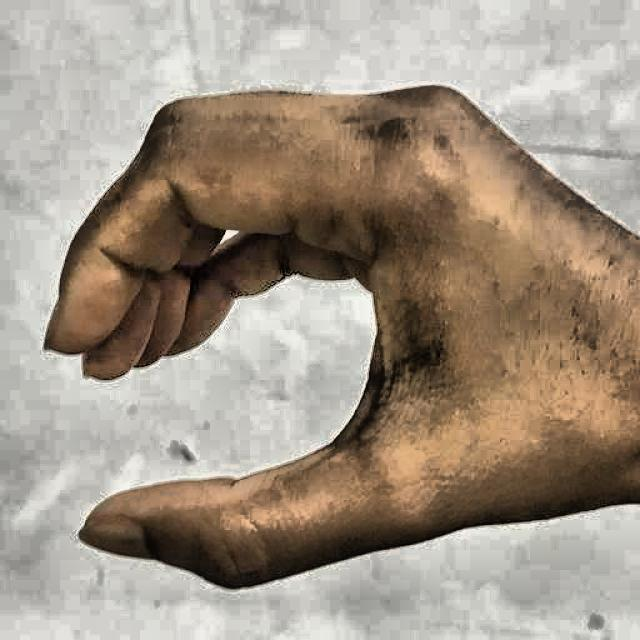Ka: (35, 35, 619, 601)
